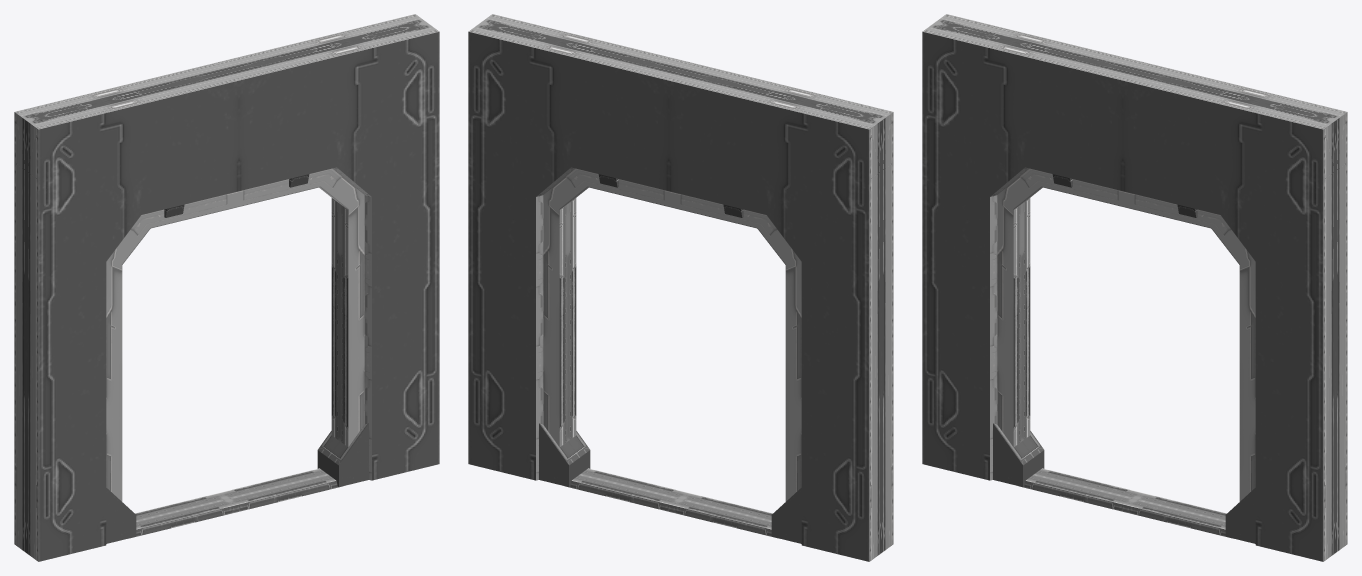
File: town-door-dvTIe5o0.glb
3 views of the same model, side by side, from view 1: azimuth 30°, elevation 25°; view 2: azimuth 150°, elevation 25°; view 3: azimuth 330°, elevation 25° (orthographic).
Parts seen in each view (by area): view 1: Door_Frame_Square; view 2: Door_Frame_Square; view 3: Door_Frame_Square.
Part boxes in pixels (left/top/right/bottom): Door_Frame_Square: left=14, top=14, right=439, bottom=561; Door_Frame_Square: left=468, top=14, right=893, bottom=561; Door_Frame_Square: left=922, top=14, right=1347, bottom=561.
Bounding box in the file's own units: 4.85 × 5.01 × 0.5067.
1 material, 1 textured.
